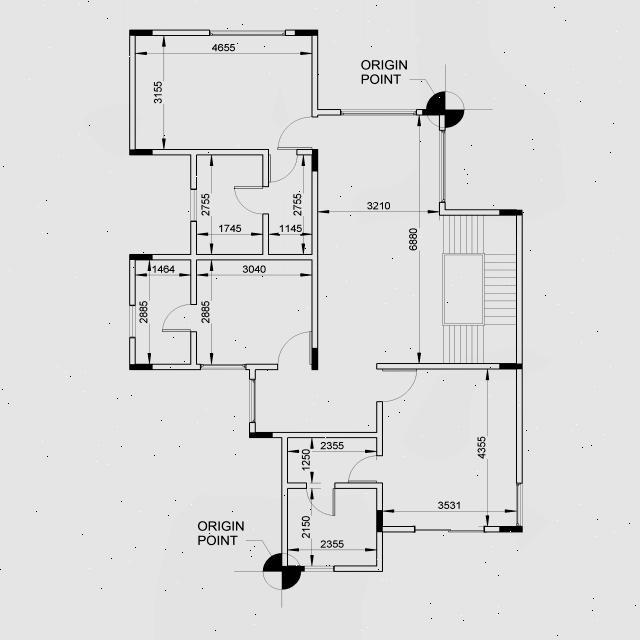Column: (422, 108, 446, 115), (499, 526, 523, 532), (249, 432, 273, 438), (129, 364, 153, 370), (129, 254, 153, 260), (129, 149, 153, 155), (129, 30, 153, 36), (294, 30, 318, 36), (500, 210, 522, 216), (312, 348, 318, 370), (312, 150, 318, 172), (499, 364, 523, 369), (377, 510, 382, 532), (288, 566, 304, 572)
Door: (376, 369, 418, 402), (278, 117, 318, 149), (278, 332, 312, 369), (348, 456, 383, 484), (268, 150, 298, 182), (162, 304, 196, 332), (234, 187, 269, 214), (306, 483, 335, 515)
Sliding Door: (414, 526, 484, 532)
Window: (210, 30, 286, 36), (341, 109, 416, 115), (440, 130, 446, 202), (200, 364, 246, 370), (250, 379, 256, 423), (516, 483, 522, 526), (190, 189, 197, 222), (130, 305, 136, 338), (304, 566, 334, 572)
